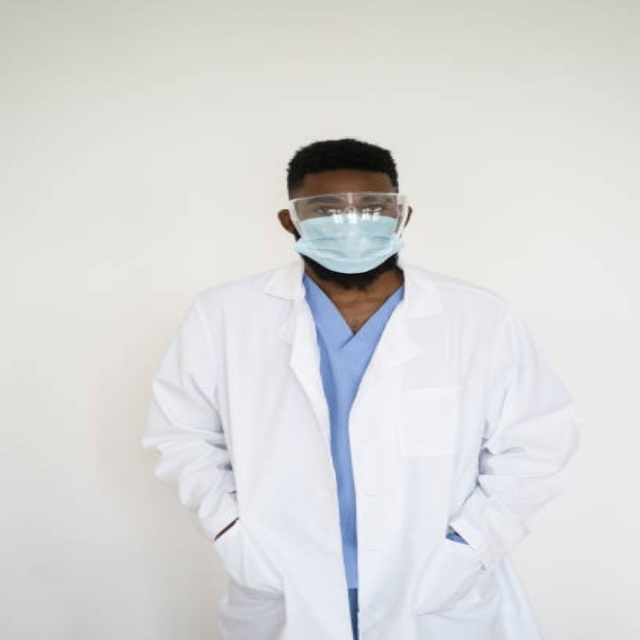Gafas: (288, 191, 408, 224)
Mascara: (292, 205, 406, 272)
